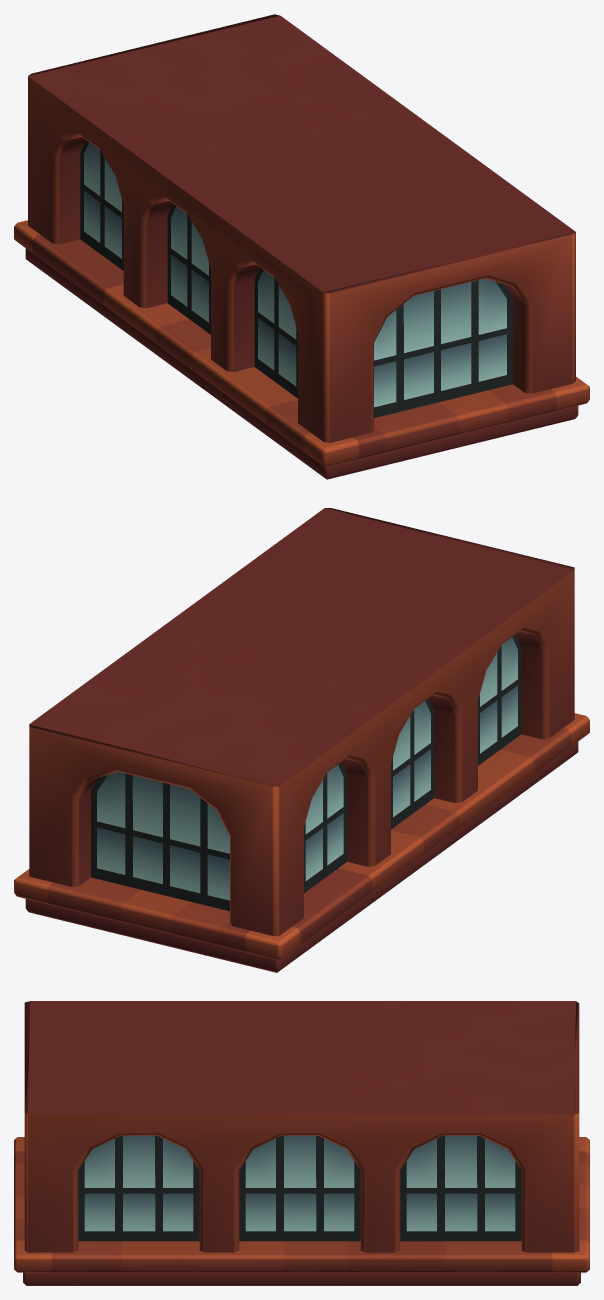
Rendered from office_building_type2_single_floor1_red.fbx.
3 renders of one model, top to bottom at view 1: azimuth 30°, elevation 25°; view 2: azimuth 150°, elevation 25°; view 3: azimuth 270°, elevation 25°, orthographic. The views are drawn at different scales.
Visible parts, largest first — view 1: office_building_type2_single_floor1_red; view 2: office_building_type2_single_floor1_red; view 3: office_building_type2_single_floor1_red.
Part boxes in pixels (x1,y1,x2,y2): office_building_type2_single_floor1_red: (14, 14, 589, 479); office_building_type2_single_floor1_red: (14, 508, 589, 972); office_building_type2_single_floor1_red: (14, 1001, 589, 1285).
Bounding box in the file's own units: 800 × 531 × 1610.
